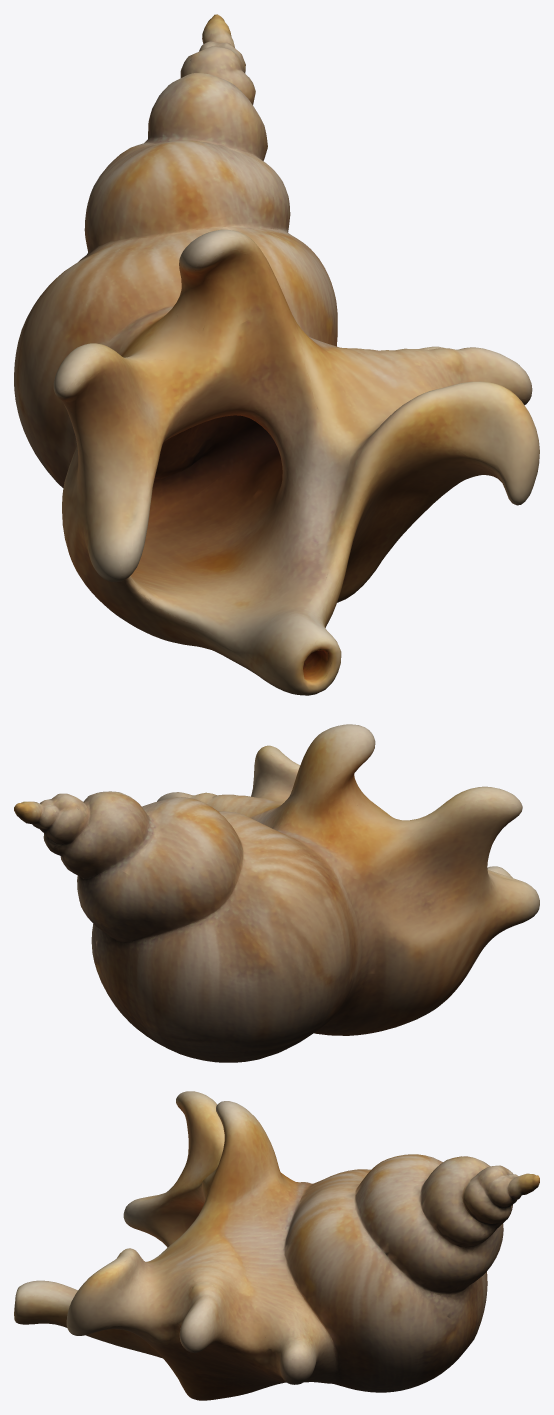
3 views of the same model, one above another, from view 1: azimuth 30°, elevation 25°; view 2: azimuth 150°, elevation 25°; view 3: azimuth 270°, elevation 25° (orthographic). The views are drawn at different scales.
Visible parts, largest first — view 1: world; view 2: world; view 3: world.
Boxes of the visible parts, left/top/right/bottom form: world: left=14, top=14, right=539, bottom=695; world: left=14, top=724, right=539, bottom=1062; world: left=14, top=1091, right=539, bottom=1400.
Size of the model in its own units: 0.0739 by 0.0581 by 0.1.
1 material, 1 textured.
